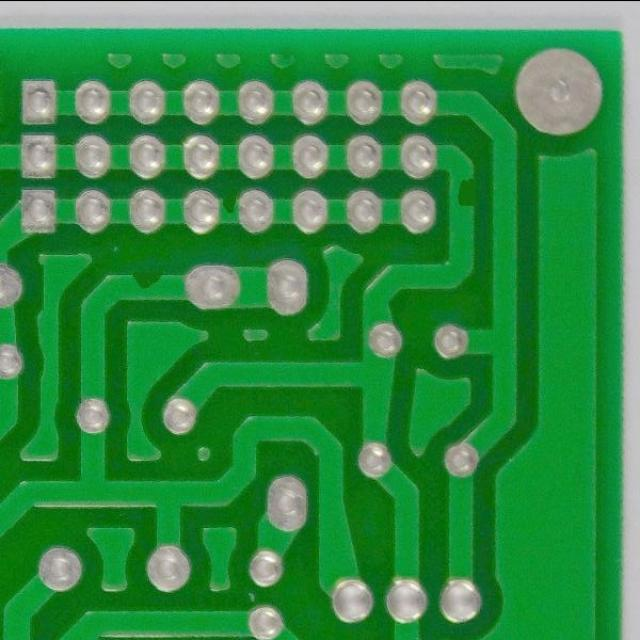MouseBite: (443, 170, 484, 223), (122, 268, 172, 294), (217, 192, 239, 223)
